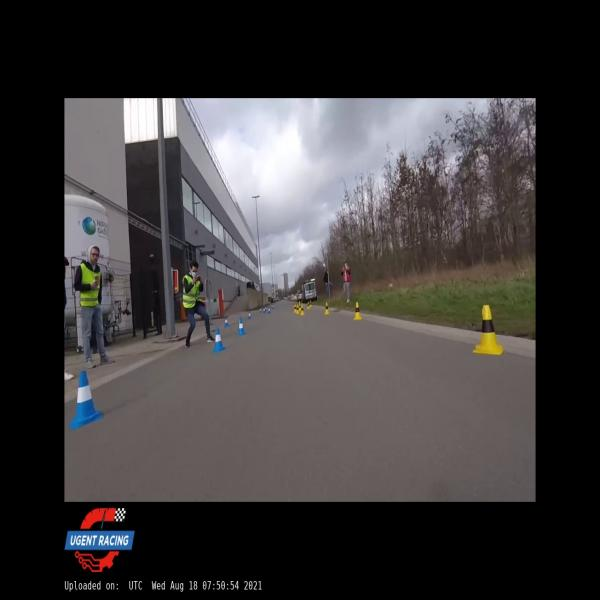blue_cone: (69, 370, 104, 429), (213, 327, 225, 352), (238, 316, 246, 336), (224, 317, 230, 327), (248, 311, 252, 319), (262, 308, 266, 314), (259, 308, 262, 314), (268, 308, 270, 313), (272, 305, 274, 309)
yellow_cone: (472, 305, 505, 355), (353, 301, 362, 320), (324, 302, 330, 316), (295, 304, 299, 314), (300, 306, 304, 315), (307, 301, 310, 310), (309, 300, 312, 308), (294, 304, 296, 312)
